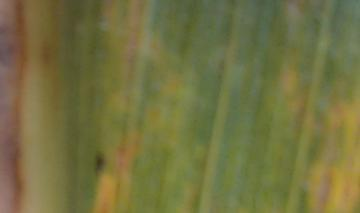tarspot: (93, 152, 106, 175)
